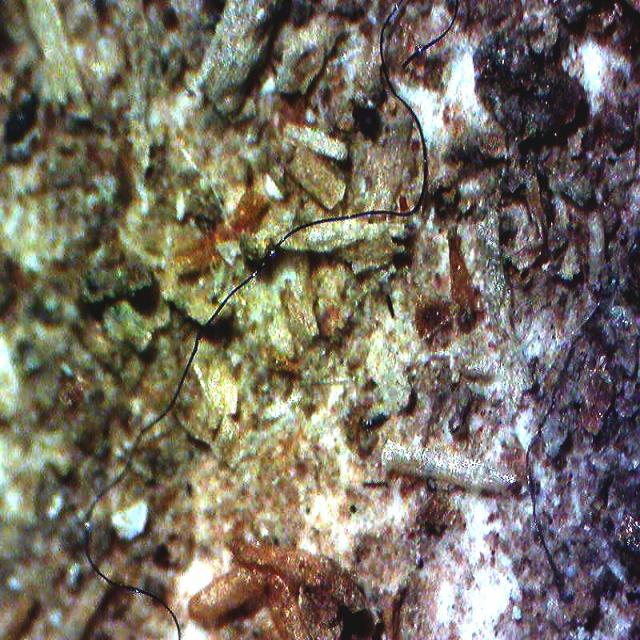microplastic: (85, 0, 429, 639), (402, 0, 459, 68)
